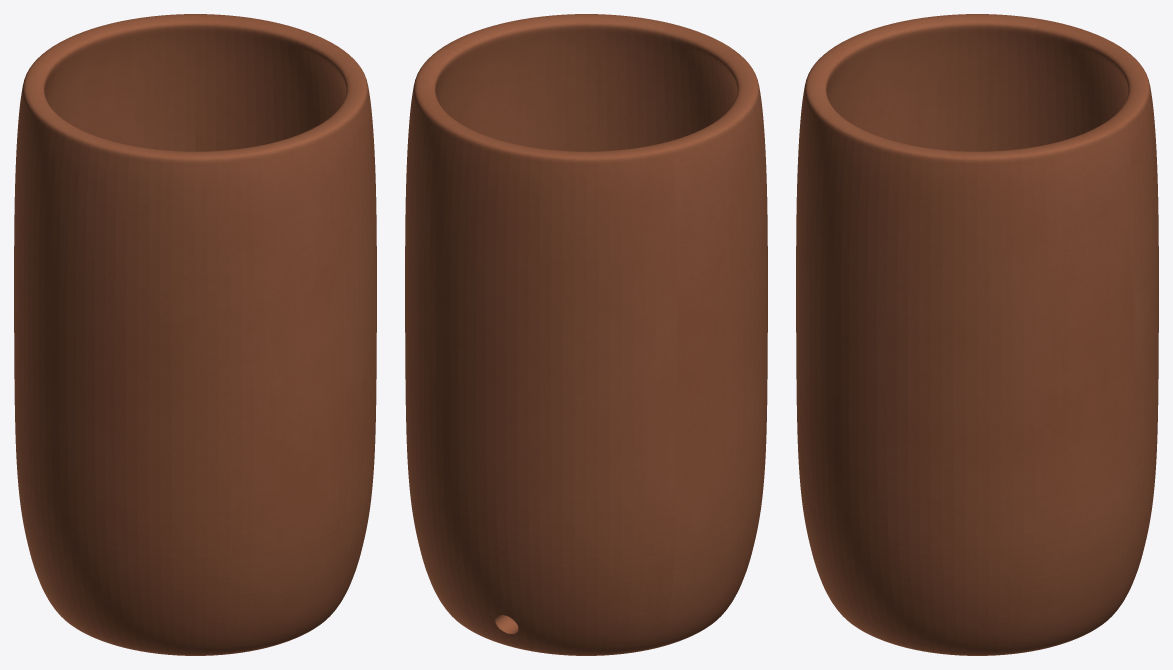
File: dc648193-1eed-4507-a628-d5517c309ec4.glb
3 views of the same model, side by side, from view 1: azimuth 30°, elevation 25°; view 2: azimuth 150°, elevation 25°; view 3: azimuth 270°, elevation 25° (orthographic).
Visible parts, largest first — view 1: Cube; view 2: Cube; view 3: Cube.
Part boxes in pixels (box(x1,y1,x2,y2)): Cube: box(14, 14, 376, 655); Cube: box(405, 14, 767, 655); Cube: box(796, 14, 1158, 655).
Bounding box in the file's own units: 2.66 × 4.16 × 2.66.
1 material, 1 textured.
